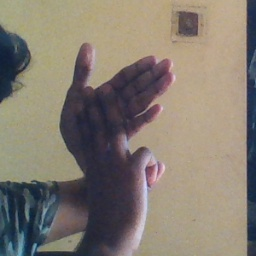M: (57, 39, 184, 209)
